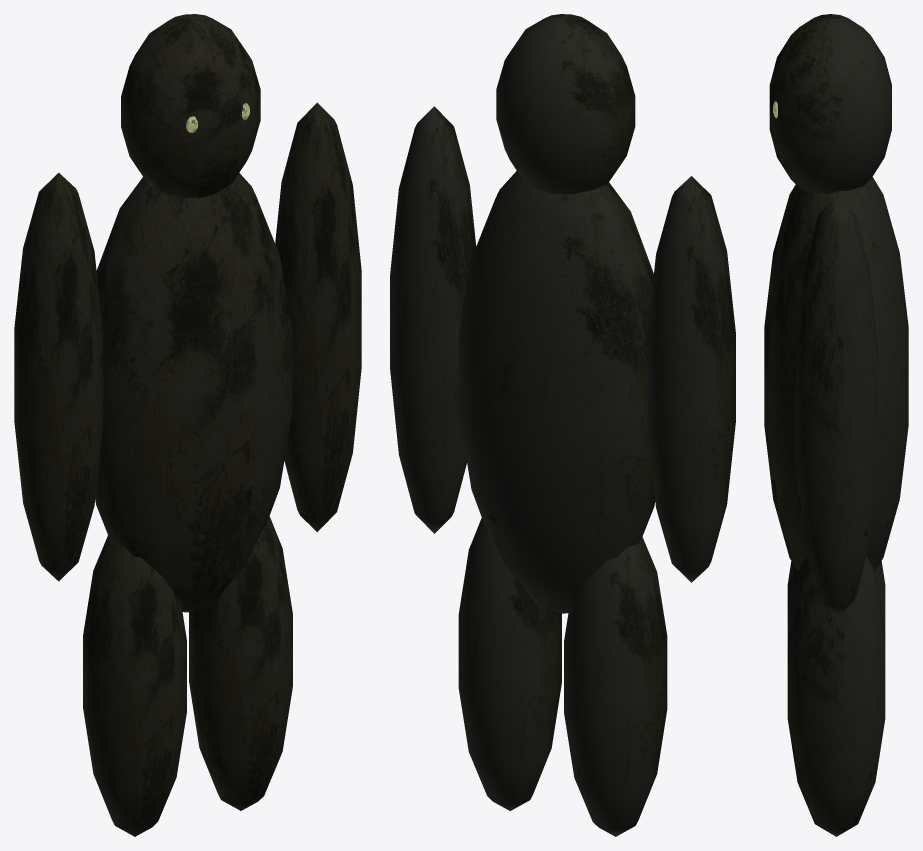
File: monster_placeholder.glb
3 views of the same model, side by side, from view 1: azimuth 30°, elevation 25°; view 2: azimuth 150°, elevation 25°; view 3: azimuth 270°, elevation 25° (orthographic).
Size of the model in its own units: 1.01 by 2.33 by 0.384.
2 materials, 2 textured.
